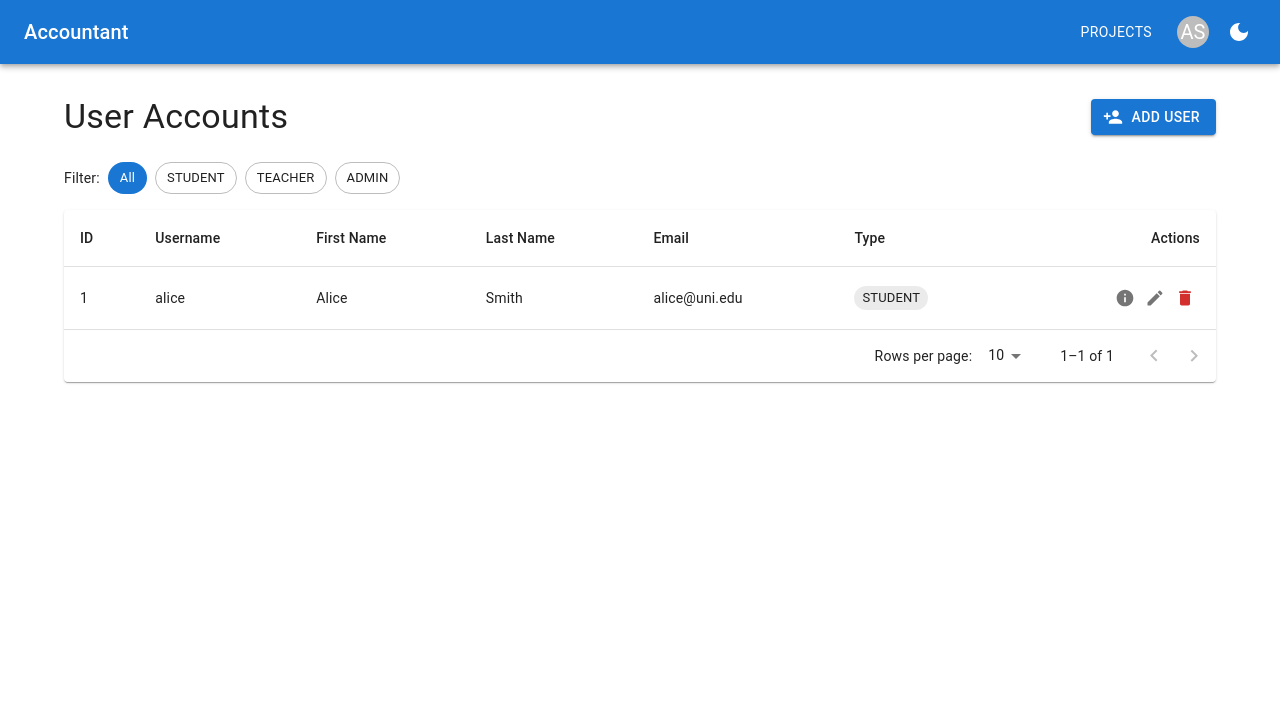
it: Users page › creates a user via the modal, closes it and reloads the list
The image size is (1280, 720).
Expected: the heading "User Accounts" is shown, [64,96,288,138]
Click the button "Add User": (1154, 117) [1092,99,1216,135]
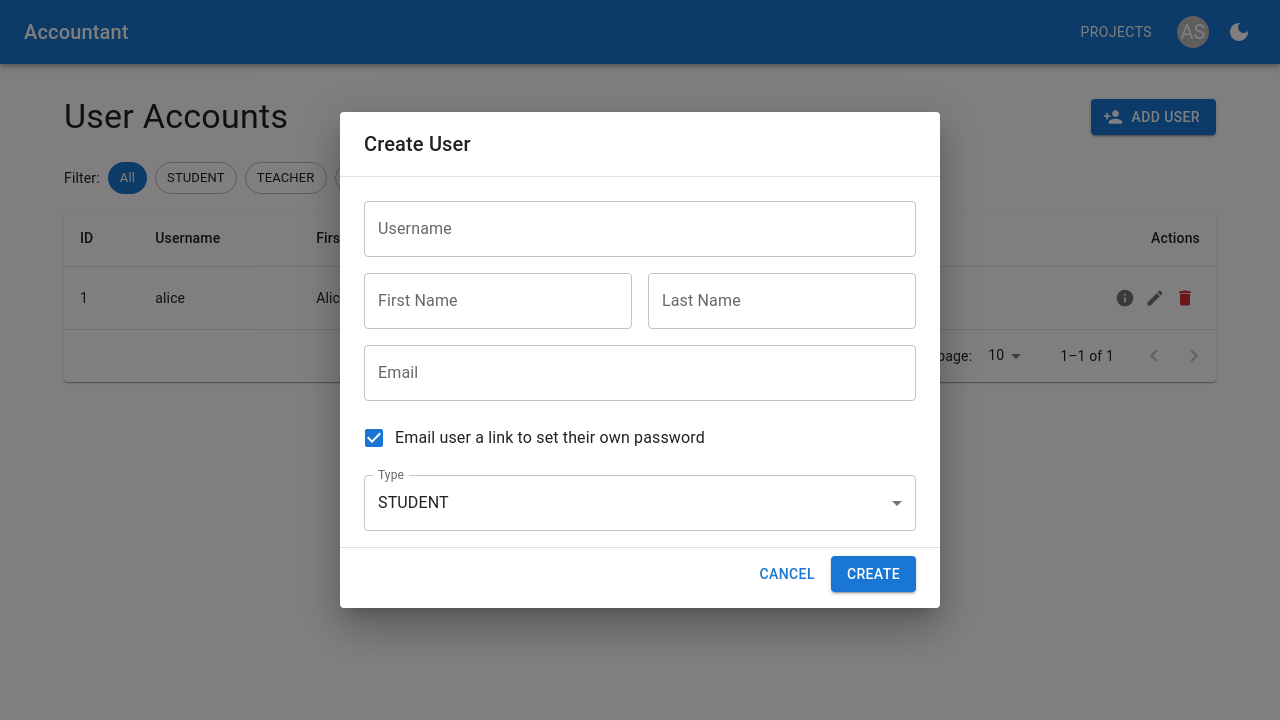
Now the heading "Create User" is shown, box [364,132,471,156]
In the field labelled "Username": (640, 229) [364,201,916,257], type "newuser"
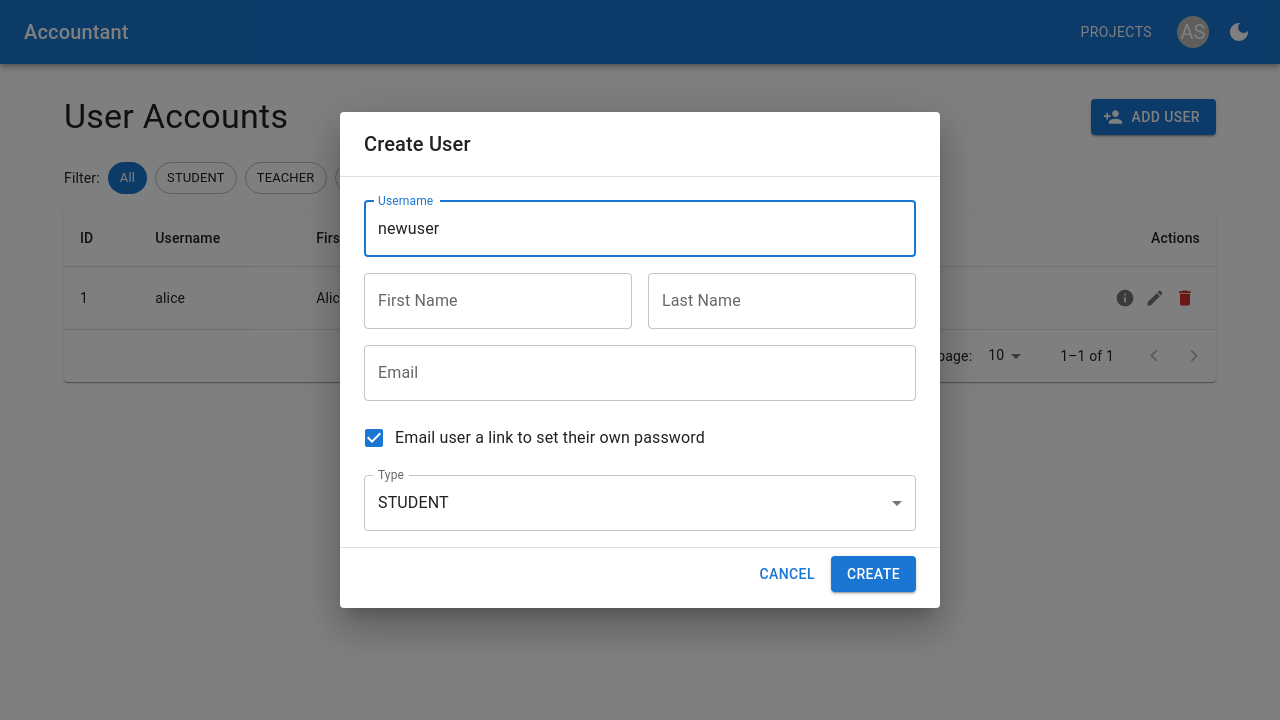
In the field labelled "Email": (640, 373) [364,345,916,401], type "n@uni.edu"
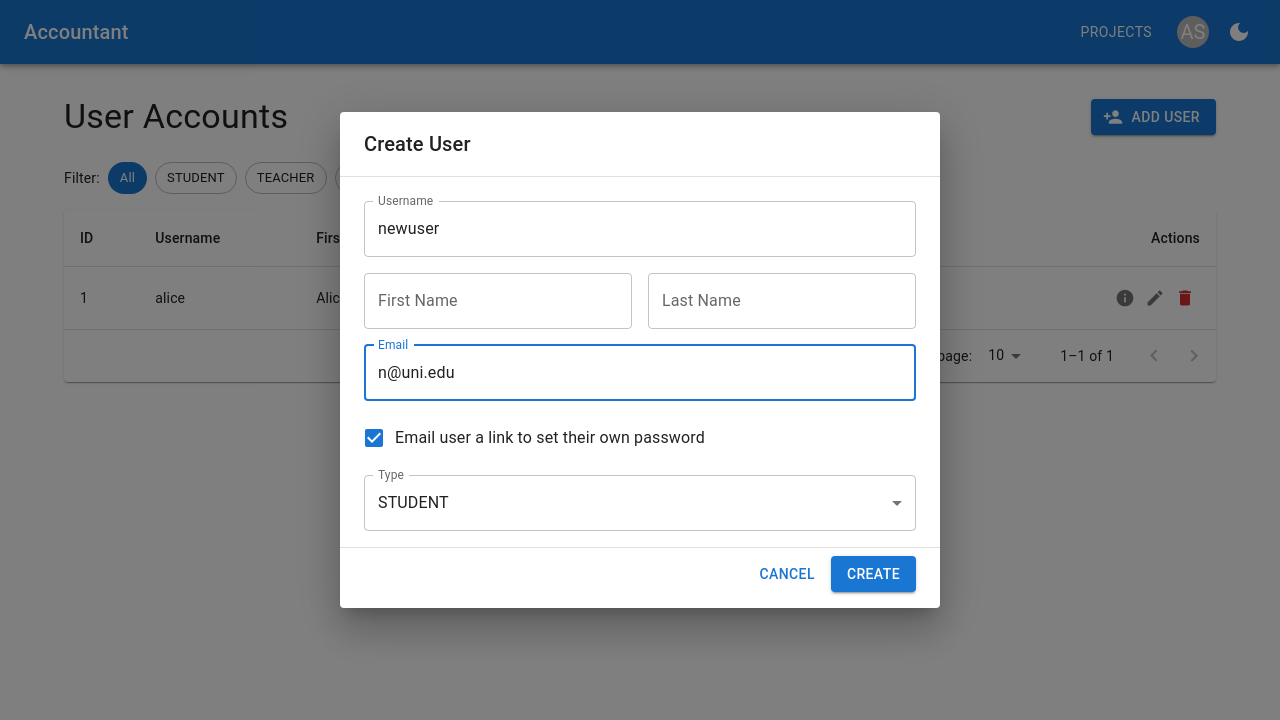
Click the button "Create": (873, 574) [831,556,916,592]
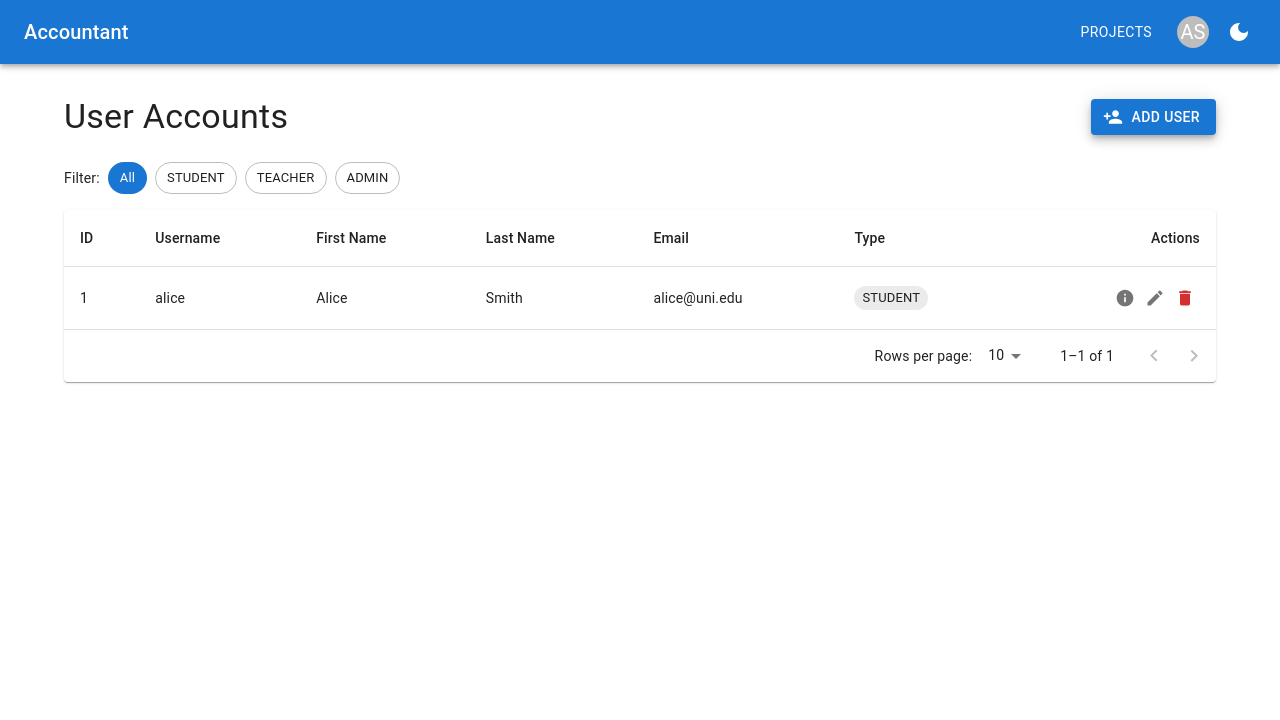
Now the heading "Create User" is gone
